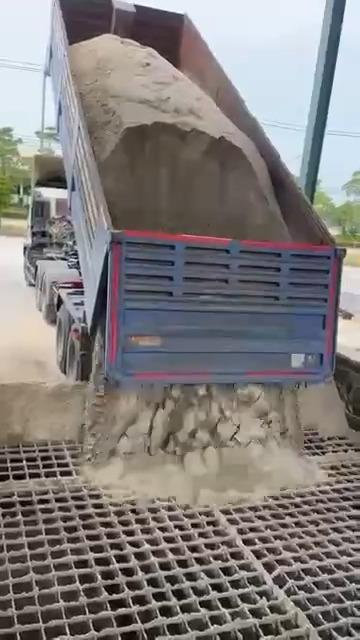sand: (1, 341, 345, 504), (71, 34, 290, 240), (216, 508, 320, 639), (316, 448, 360, 465)
